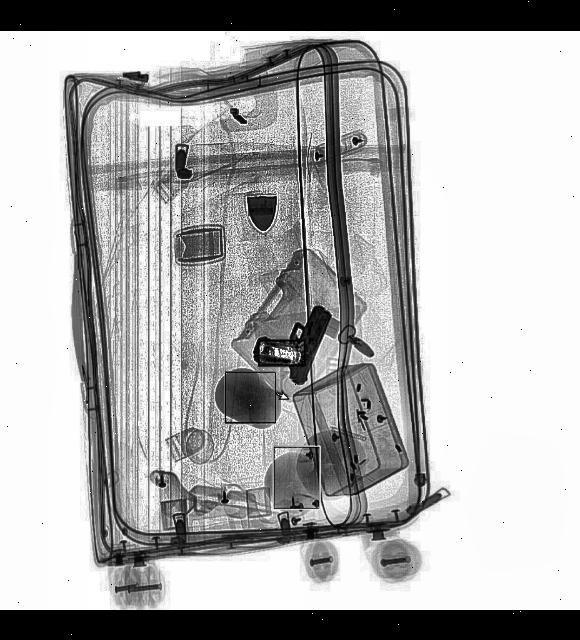Gun: (251, 292, 334, 386)
